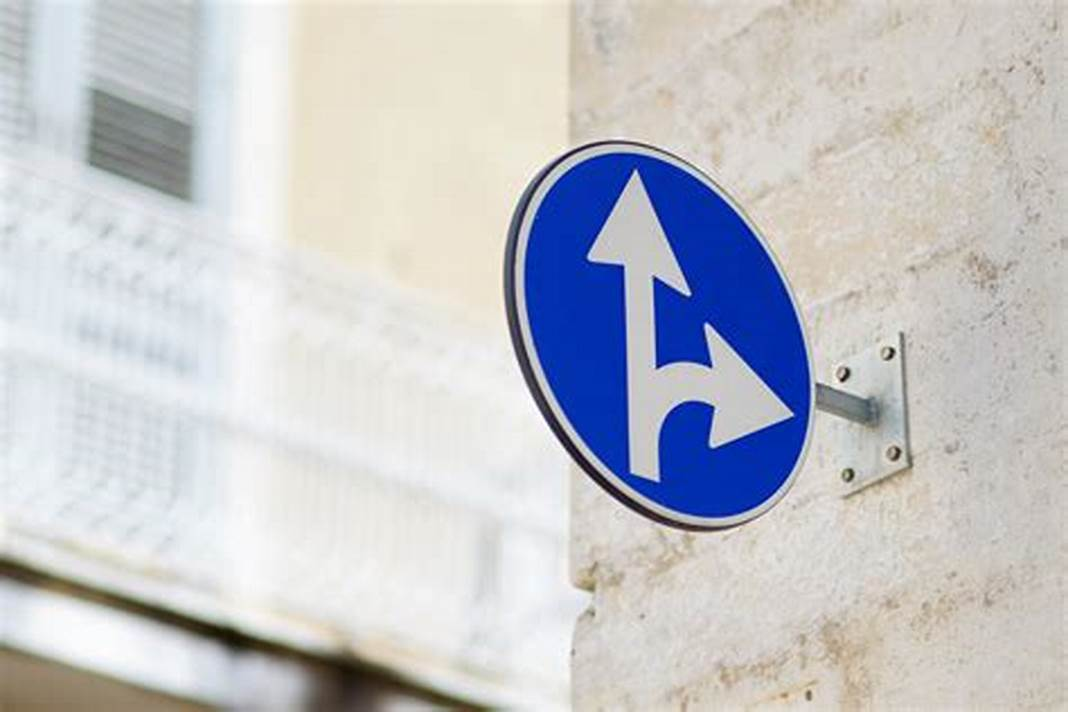ileri_veya_saga: (497, 135, 820, 528)
